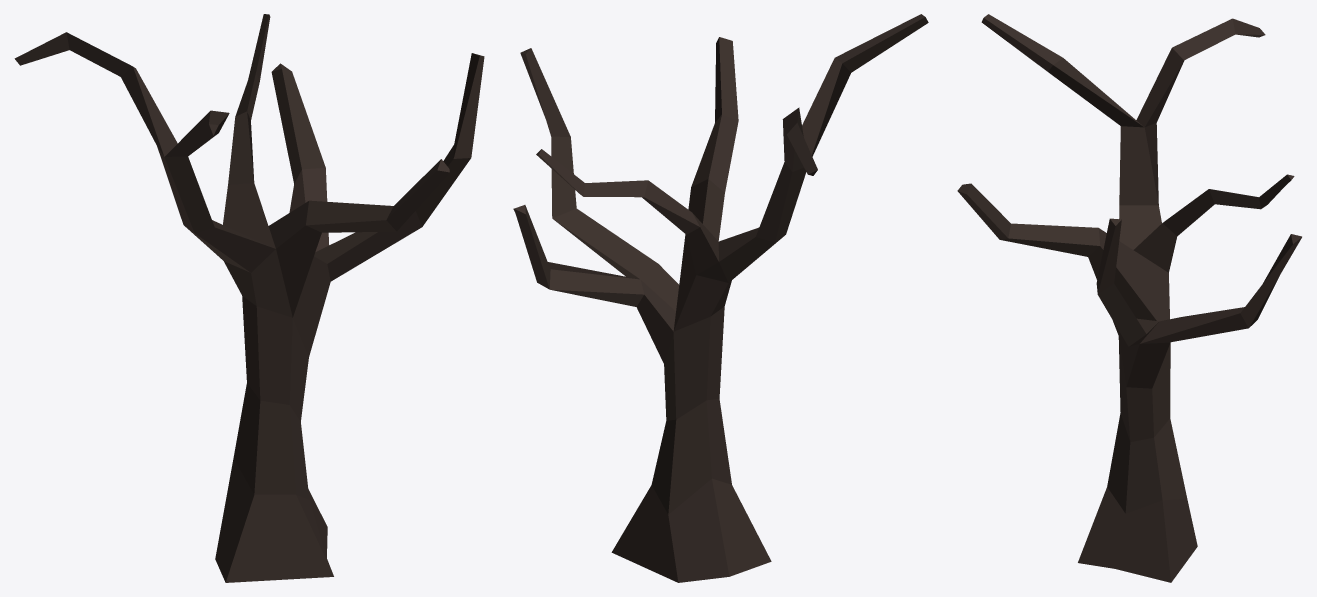
The model's file is tree_01.fbx.
3 renders of one model, left to right at view 1: azimuth 30°, elevation 25°; view 2: azimuth 150°, elevation 25°; view 3: azimuth 270°, elevation 25°, orthographic. The views are drawn at different scales.
Visible parts, largest first — view 1: tree_01; view 2: tree_01; view 3: tree_01.
Boxes of the visible parts, x1,y1,x2,y2 form: tree_01: (14,14,484,582); tree_01: (513,14,928,582); tree_01: (957,14,1301,582).
Size of the model in its own units: 9.11 by 11.92 by 7.89.
